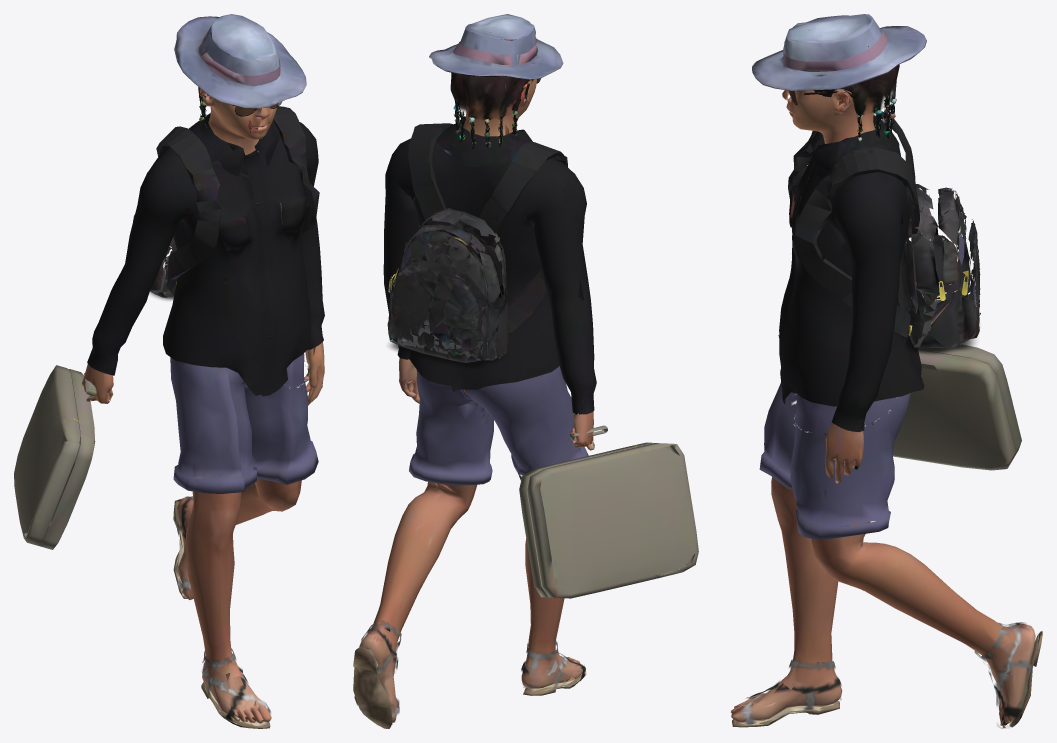
The picture shows the model from 3 angles, left to right: view 1: azimuth 30°, elevation 25°; view 2: azimuth 150°, elevation 25°; view 3: azimuth 270°, elevation 25°; orthographic projection. The views are drawn at different scales.
Visible parts, largest first — view 1: p03744; view 2: p03744; view 3: p03744.
Boxes of the visible parts, x1,y1,x2,y2 form: p03744: [14, 14, 324, 728]; p03744: [353, 14, 698, 728]; p03744: [730, 14, 1042, 728].
Bounding box in the file's own units: 0.8084 × 1.72 × 0.6868.
Materials: 1 (1 with a texture image).
